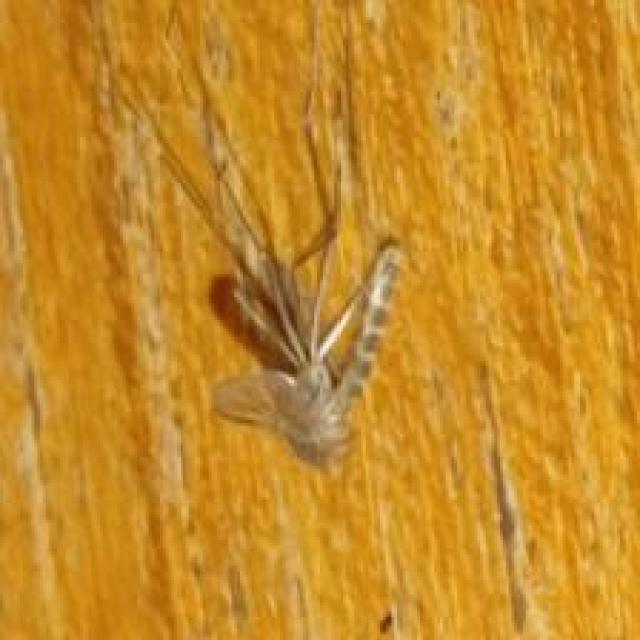Culex: (210, 232, 404, 468)
